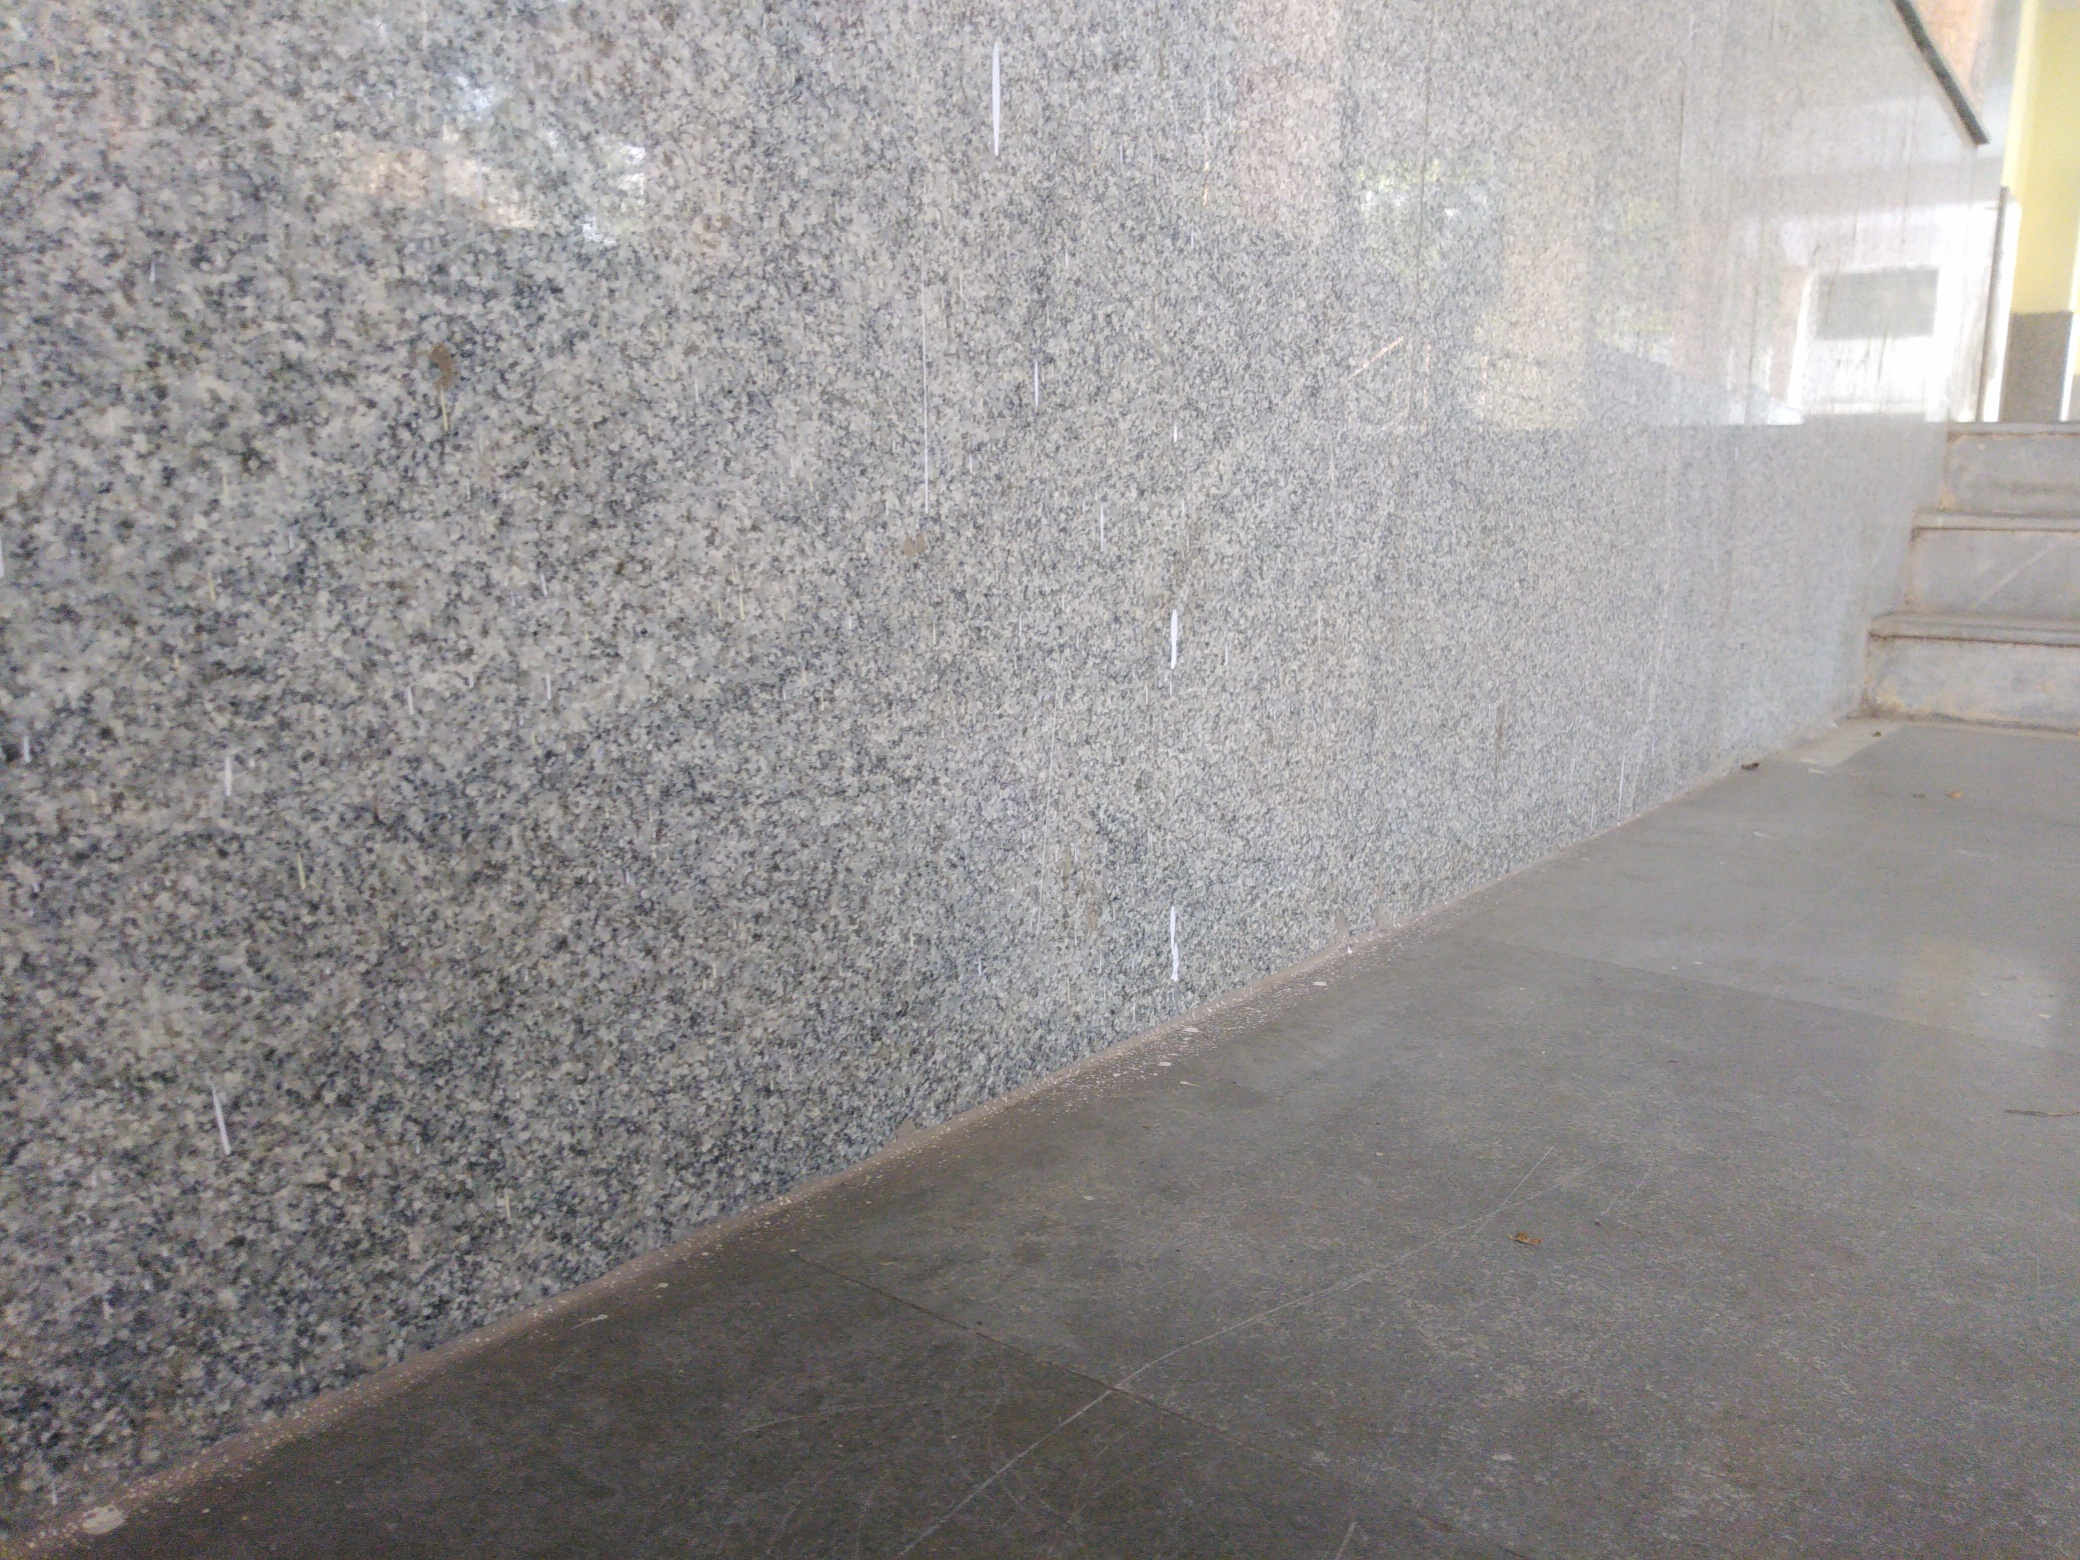stairs_up: (1843, 421, 2077, 741)
